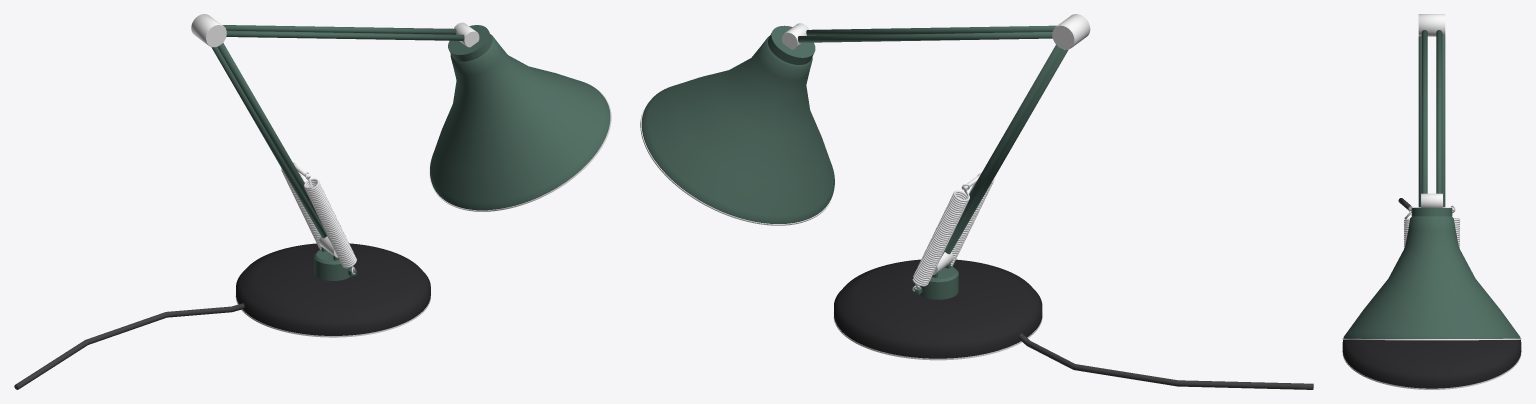
Rendered from lamp.glb.
The picture shows the model from 3 angles, left to right: view 1: azimuth 30°, elevation 25°; view 2: azimuth 150°, elevation 25°; view 3: azimuth 270°, elevation 25°; orthographic projection. The views are drawn at different scales.
Visible parts, largest first — view 1: Shade_Outer, Base, Upper_-1, Spring_-1, Cord, Upper_1, Lower_-1, Lower_1, Shade_Cap, Elbow, Turret, Shade_Rim; view 2: Shade_Outer, Base, Cord, Upper_1, Spring_1, Upper_-1, Lower_1, Lower_-1, Shade_Cap, Elbow, Turret, Shade_Rim; view 3: Shade_Outer, Base, Upper_1, Upper_-1, Lower_1, Lower_-1, Elbow, Base_Ring, Shade_Cap, Head_Joint, Shade_Rim.
Boxes of the visible parts, bbox=[...] form: Shade_Outer: bbox=[430, 34, 610, 210]; Base: bbox=[236, 243, 430, 335]; Upper_-1: bbox=[226, 30, 464, 40]; Spring_-1: bbox=[304, 178, 356, 271]; Cord: bbox=[14, 303, 244, 389]; Upper_1: bbox=[222, 25, 456, 34]; Lower_-1: bbox=[217, 43, 330, 241]; Lower_1: bbox=[211, 47, 326, 238]; Shade_Cap: bbox=[448, 25, 492, 61]; Elbow: bbox=[191, 14, 226, 47]; Turret: bbox=[314, 249, 351, 280]; Shade_Rim: bbox=[429, 87, 611, 211]; Shade_Outer: bbox=[641, 36, 834, 223]; Base: bbox=[834, 259, 1042, 358]; Cord: bbox=[1019, 333, 1313, 389]; Upper_1: bbox=[798, 32, 1052, 42]; Spring_1: bbox=[912, 190, 969, 289]; Upper_-1: bbox=[806, 25, 1056, 35]; Lower_1: bbox=[941, 45, 1062, 257]; Lower_-1: bbox=[945, 49, 1068, 254]; Shade_Cap: bbox=[768, 25, 815, 64]; Elbow: bbox=[1052, 14, 1090, 49]; Turret: bbox=[920, 266, 958, 299]; Shade_Rim: bbox=[640, 92, 835, 225]; Shade_Outer: bbox=[1343, 216, 1520, 338]; Base: bbox=[1342, 340, 1521, 388]; Upper_1: bbox=[1436, 30, 1442, 193]; Upper_-1: bbox=[1421, 30, 1427, 193]; Lower_1: bbox=[1442, 36, 1445, 207]; Lower_-1: bbox=[1418, 36, 1421, 207]; Elbow: bbox=[1418, 14, 1445, 36]; Base_Ring: bbox=[1342, 351, 1521, 389]; Shade_Cap: bbox=[1411, 208, 1452, 216]; Head_Joint: bbox=[1421, 193, 1442, 207]; Shade_Rim: bbox=[1342, 338, 1521, 340].
Bounding box in the file's own units: 61.02 × 29.93 × 17.24.
